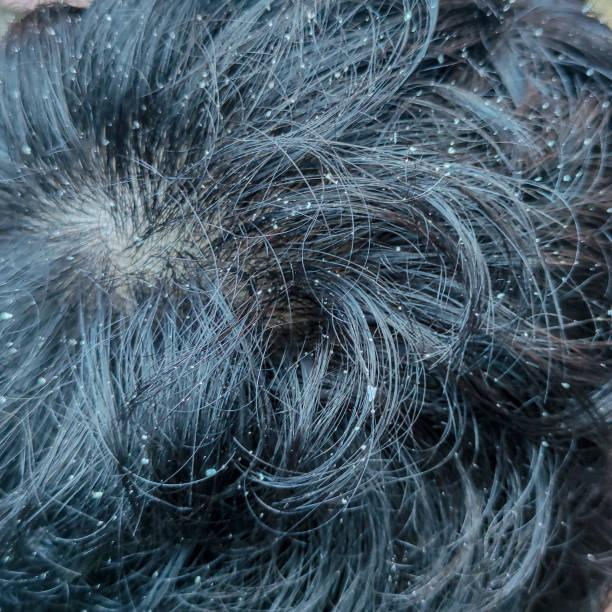dandruff: (16, 133, 48, 176), (351, 379, 397, 406), (195, 458, 224, 494), (551, 375, 581, 400), (263, 214, 288, 242), (0, 293, 15, 338), (27, 367, 49, 396), (488, 286, 516, 308), (79, 483, 106, 503), (132, 447, 152, 472), (443, 133, 463, 157), (305, 270, 324, 295), (126, 109, 142, 136), (257, 105, 278, 125), (262, 74, 282, 91)
